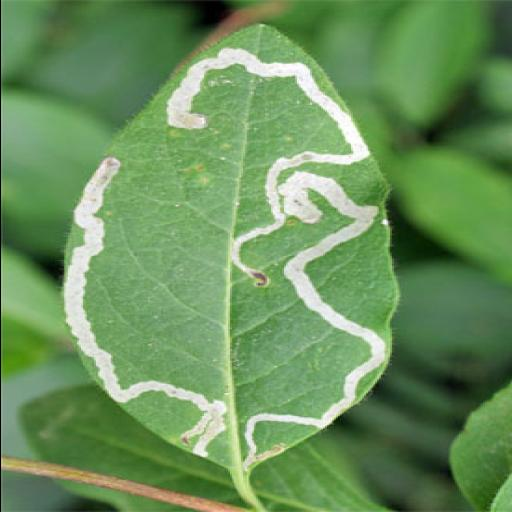Leaf Miner: (58, 21, 406, 471)
